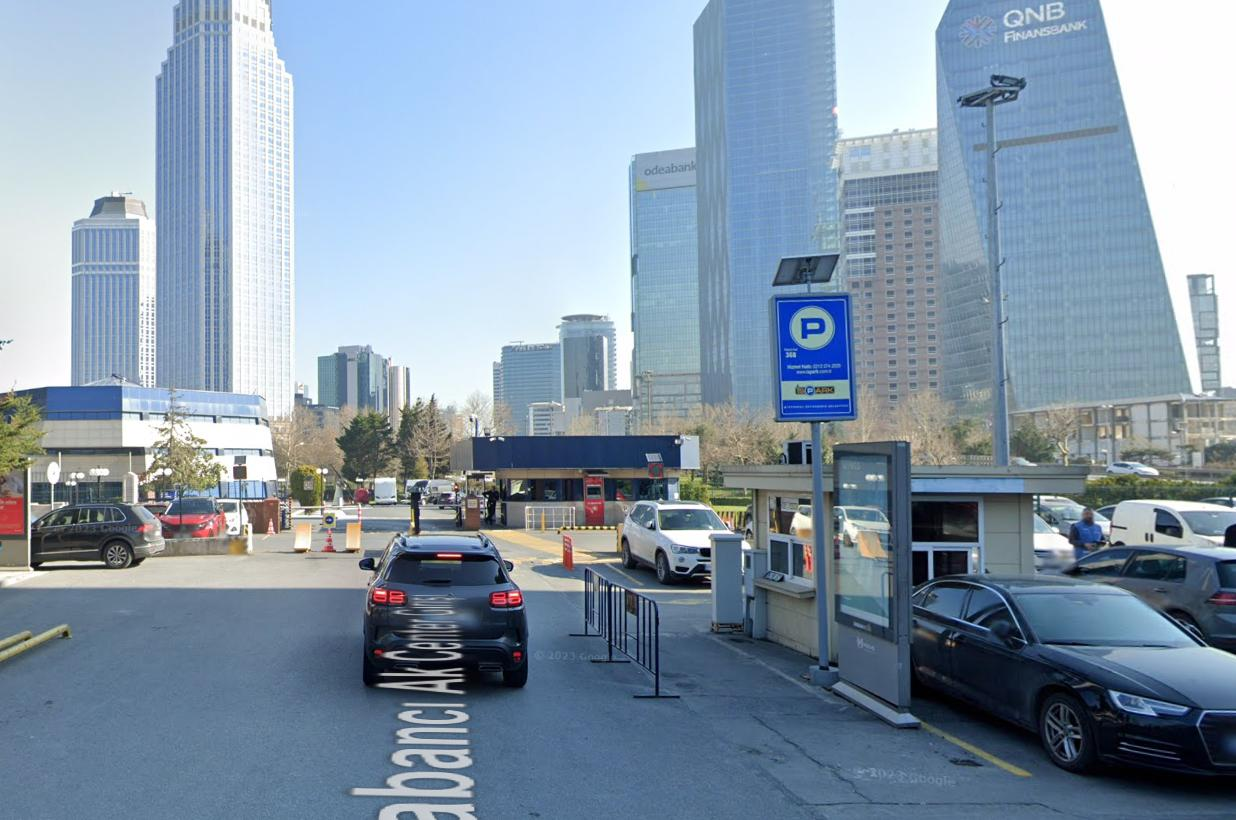park: (768, 287, 857, 375)
